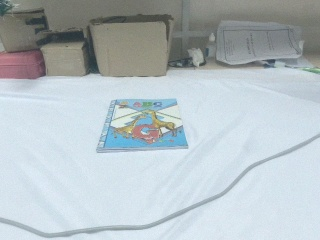book: (96, 97, 189, 149)
box: (90, 13, 174, 78), (39, 29, 97, 77)
